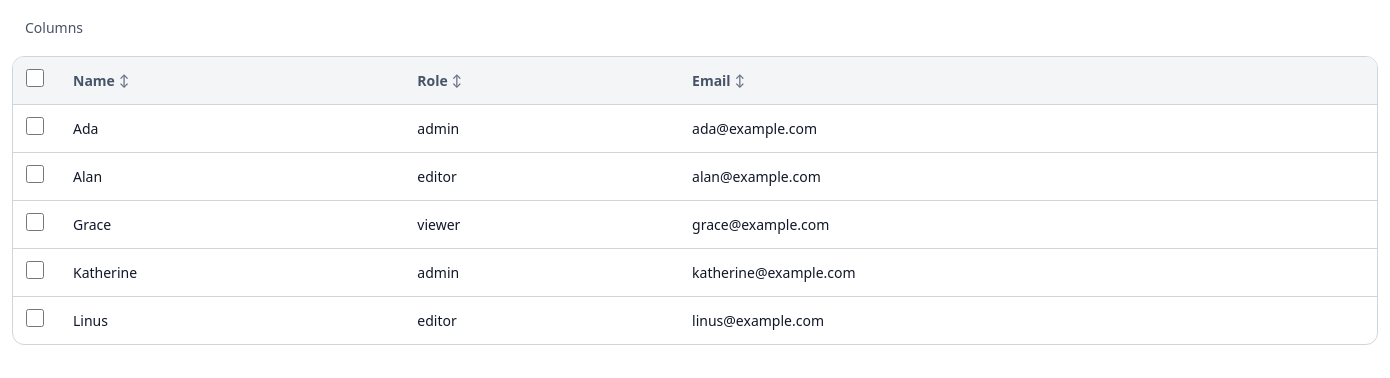
Test case: DataTable › selects rows with a tri-state header checkbox and a bulk action bar
Expected: the checkbox named "Select all rows" is not checked, [26, 69, 44, 87]
Click the checkbox named "Select u1" at (35, 126), box [26, 117, 44, 135]
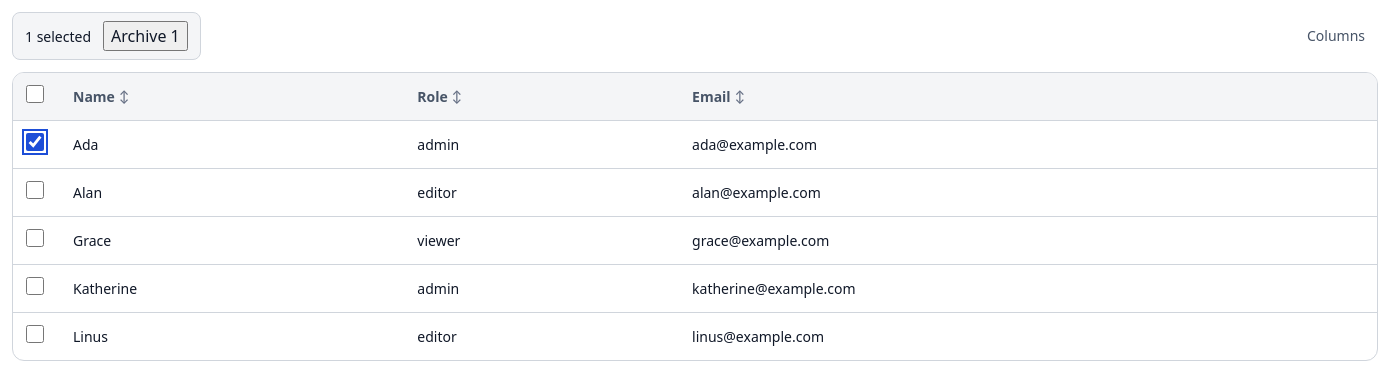
Now the message reads "1 selected", box [25, 26, 91, 46]
Now the button "Archive 1" is shown, box [103, 21, 188, 51]
Click the checkbox named "Select all rows" at (35, 94), box [26, 85, 44, 103]
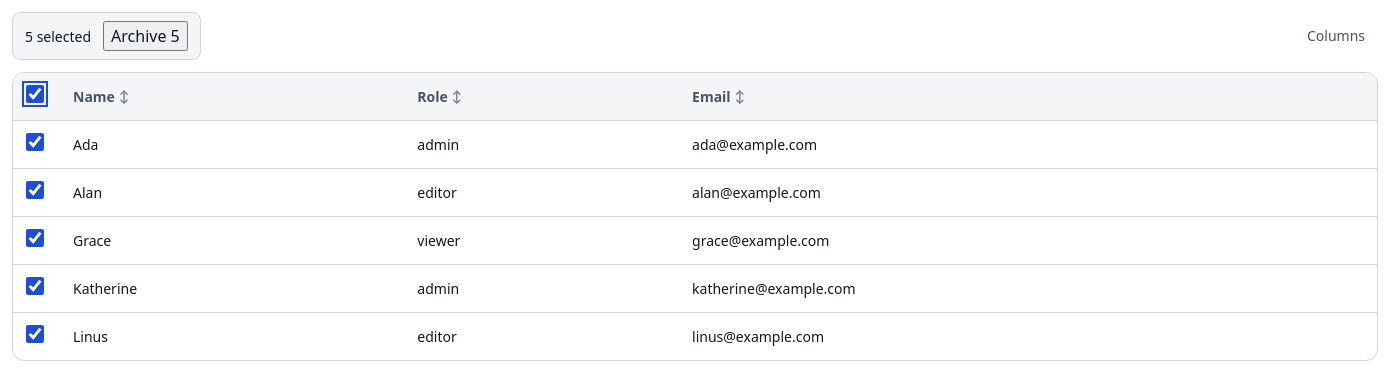
Now the checkbox named "Select all rows" is checked, box [26, 85, 44, 103]
Now the button "Archive 5" is shown, box [103, 21, 188, 51]
